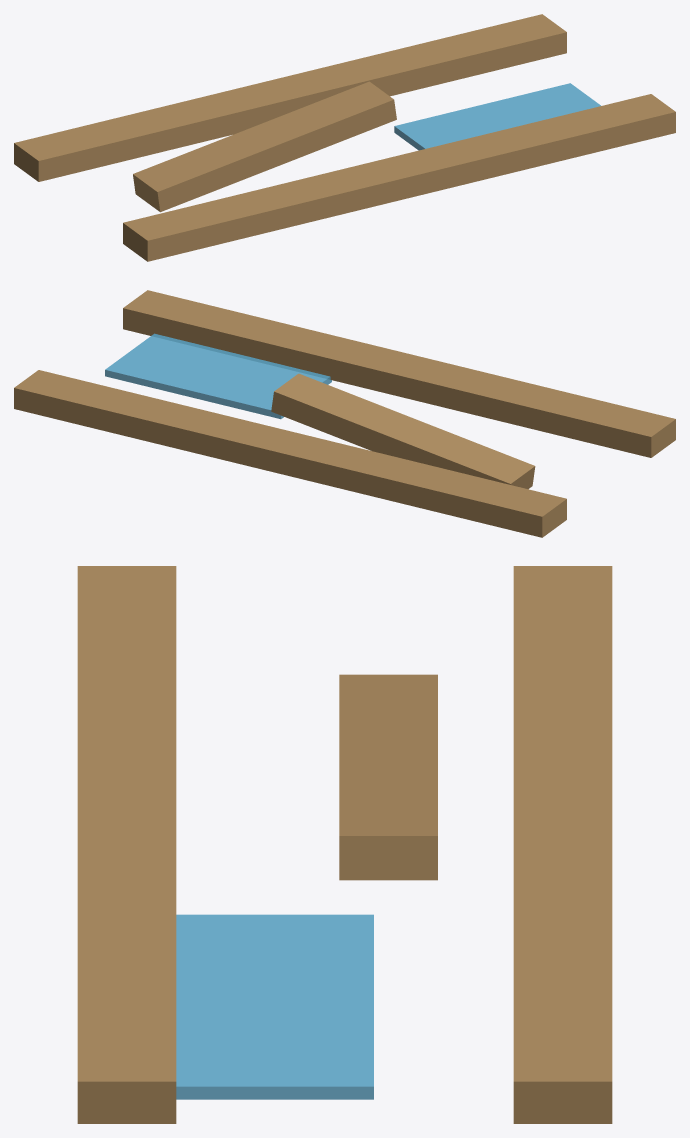
The model's file is broken_bridge.glb.
3 views of the same model, one above another, from view 1: azimuth 30°, elevation 25°; view 2: azimuth 150°, elevation 25°; view 3: azimuth 270°, elevation 25° (orthographic). The views are drawn at different scales.
Parts seen in each view (by area): view 1: broken_bridge; view 2: broken_bridge; view 3: broken_bridge.
Part boxes in pixels (left/top/right/bottom): broken_bridge: left=14, top=14, right=675, bottom=261; broken_bridge: left=14, top=290, right=675, bottom=537; broken_bridge: left=77, top=566, right=612, bottom=1123.
Bounding box in the file's own units: 4.2 × 0.4229 × 1.84.
